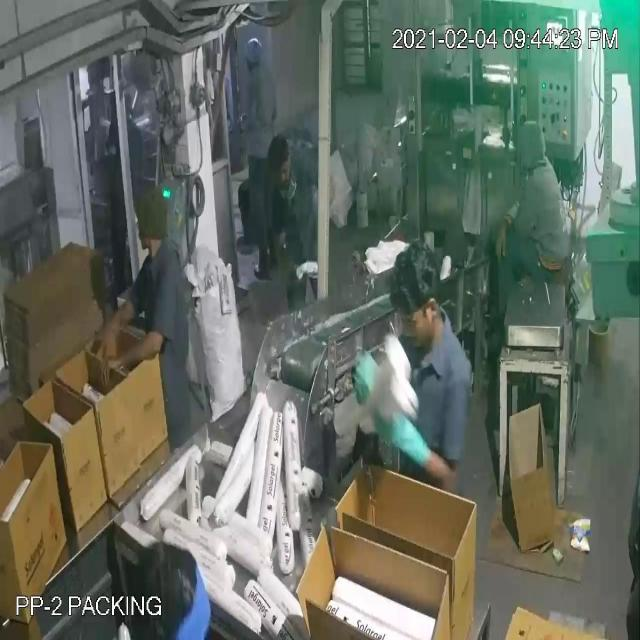No_Gloves: (46, 50, 400, 426)
